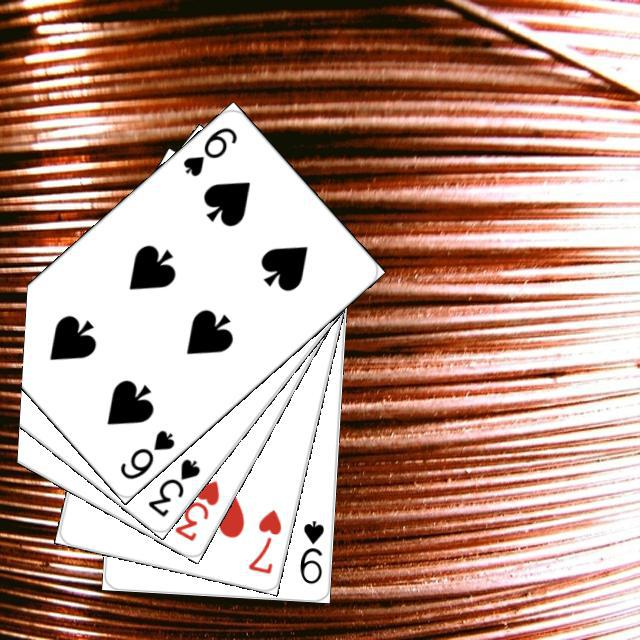3h: (169, 475, 222, 543)
3s: (143, 453, 202, 519)
6s: (177, 122, 239, 179), (114, 425, 177, 481)
7h: (243, 504, 284, 576)
9s: (294, 516, 326, 586)
